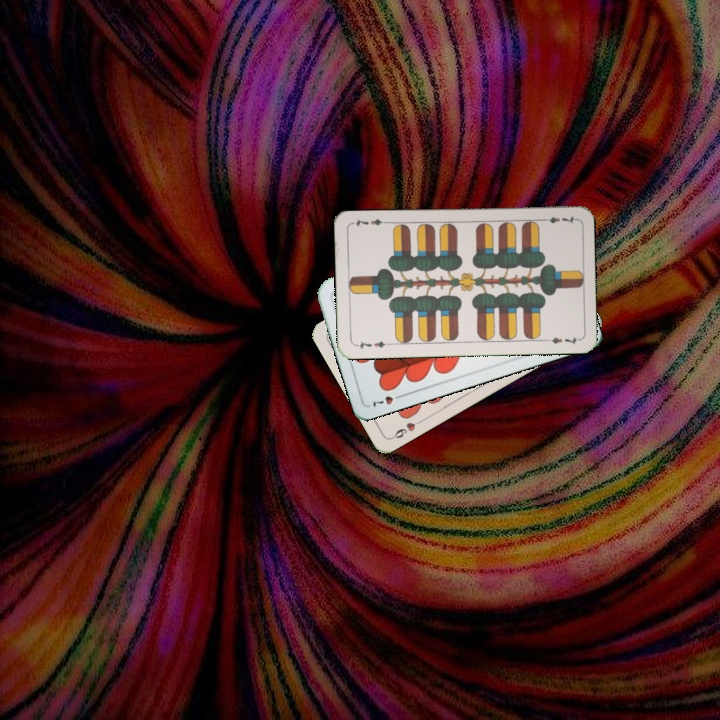E7: (537, 212, 578, 226), (352, 337, 392, 351)
H7: (367, 390, 406, 410)
H9: (387, 416, 424, 442)
